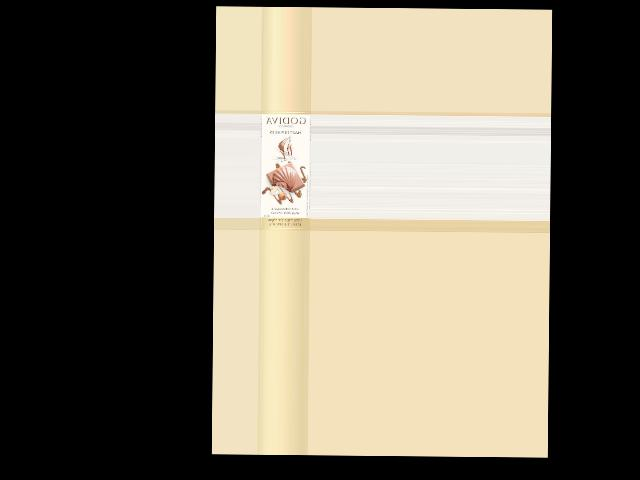chocolate: (259, 110, 310, 230)
